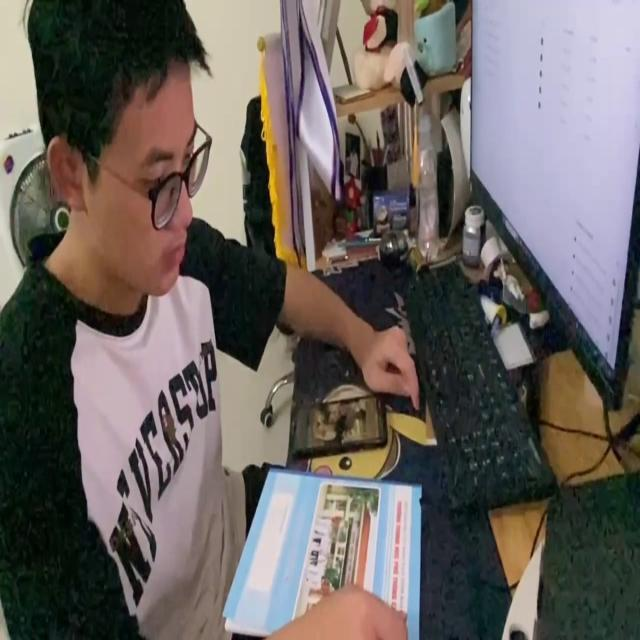book: (221, 464, 422, 640)
laptop: (468, 0, 640, 417)
phone: (290, 389, 389, 455)
student: (0, 0, 423, 640)
